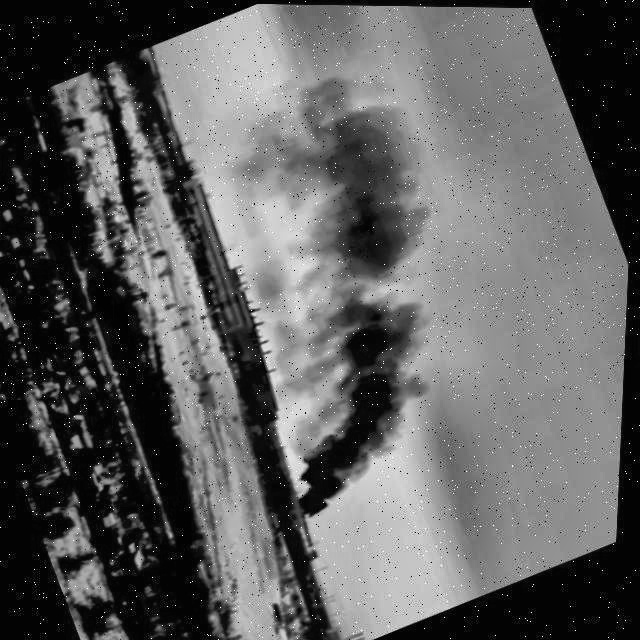Smoke: (159, 70, 536, 520)
